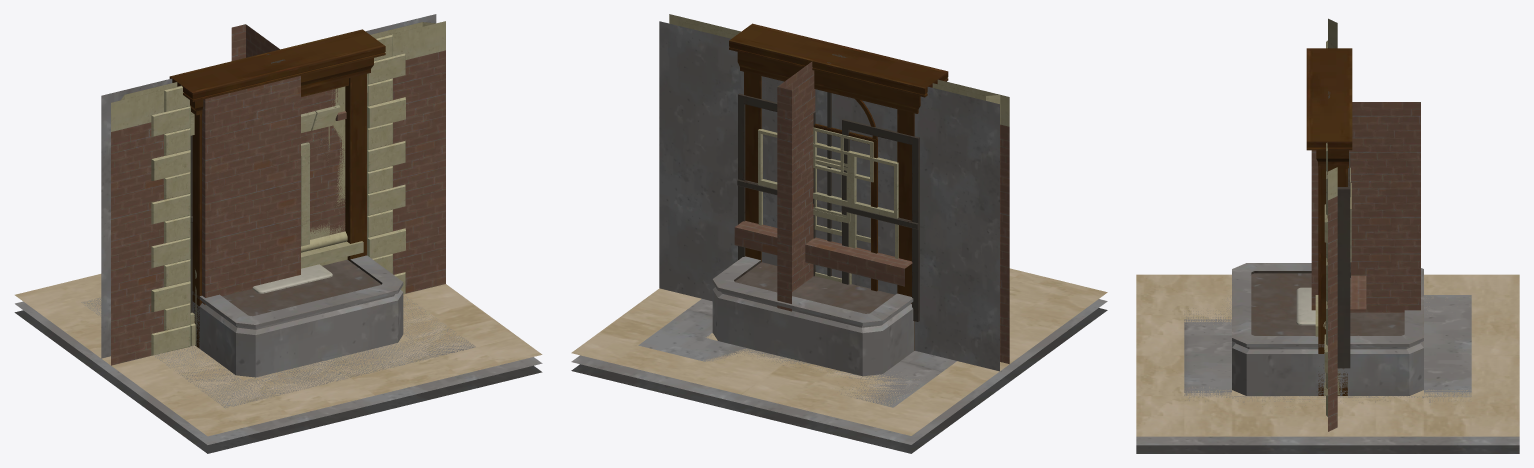
The model's file is ciudad.glb.
The picture shows the model from 3 angles, left to right: view 1: azimuth 30°, elevation 25°; view 2: azimuth 150°, elevation 25°; view 3: azimuth 270°, elevation 25°; orthographic projection. The views are drawn at different scales.
Visible parts, largest first — view 1: Brick_RedWhite_DoubleWindow, Floor_4x4, Brick_CornerColumn_Center, Prop_Planter_Single, DoorFrame_Wooden, Brick_Inset_Window, Sidewalk_NoCurb_3m, Roof_4x4, Brick_Window_Square_Single, Brick_Window_Trim_Single, Trim_Window, Prop_ACUnit (+1 smaller); view 2: Brick_RedWhite_DoubleWindow, Floor_4x4, Prop_Planter_Single, DoorFrame_Wooden, Brick_Inset_Window, Brick_CornerColumn_Center, Sidewalk_NoCurb_3m, Trim_Window, Roof_4x4, Brick_Plain_3, Brick_TopTrim, Cornice_Brick_Center (+4 smaller); view 3: Floor_4x4, Prop_Planter_Single, Brick_CornerColumn_Center, Sidewalk_NoCurb_3m, DoorFrame_Wooden, Roof_4x4, Brick_RedWhite_DoubleWindow, Brick_Inset_Window, Prop_ACUnit, Cornice_Brick_Center.
Part boxes in pixels (x1,y1,x2,y2): Brick_RedWhite_DoubleWindow: (111,22,445,365); Floor_4x4: (15,274,542,444); Brick_CornerColumn_Center: (202,24,300,304); Prop_Planter_Single: (192,255,403,377); DoorFrame_Wooden: (169,29,385,348); Brick_Inset_Window: (101,14,445,365); Sidewalk_NoCurb_3m: (81,296,475,408); Roof_4x4: (14,310,542,453); Brick_Window_Square_Single: (301,88,345,252); Brick_Window_Trim_Single: (301,105,346,234); Trim_Window: (310,86,345,239); Prop_ACUnit: (252,264,332,293); Brick_RedWhite_DoubleWindow: (659,14,1009,371); Floor_4x4: (571,268,1107,444); Prop_Planter_Single: (712,256,914,376); DoorFrame_Wooden: (729,23,948,350); Brick_Inset_Window: (659,14,1009,365); Brick_CornerColumn_Center: (777,61,815,311); Sidewalk_NoCurb_3m: (638,299,956,407); Trim_Window: (762,91,897,294); Roof_4x4: (571,308,1107,453); Brick_Plain_3: (761,76,897,275); Brick_TopTrim: (761,76,897,239); Cornice_Brick_Center: (734,221,912,286); Floor_4x4: (1136,274,1519,445); Prop_Planter_Single: (1232,263,1423,395); Brick_CornerColumn_Center: (1311,102,1420,312); Sidewalk_NoCurb_3m: (1184,295,1471,406); DoorFrame_Wooden: (1306,48,1352,395); Roof_4x4: (1136,445,1519,453); Brick_RedWhite_DoubleWindow: (1324,40,1350,416); Brick_Inset_Window: (1315,18,1351,431); Prop_ACUnit: (1296,287,1315,325); Cornice_Brick_Center: (1350,275,1366,309).
Bounding box in the file's own units: 4 × 3.2 × 4.
Materials: 13 (12 with a texture image).
